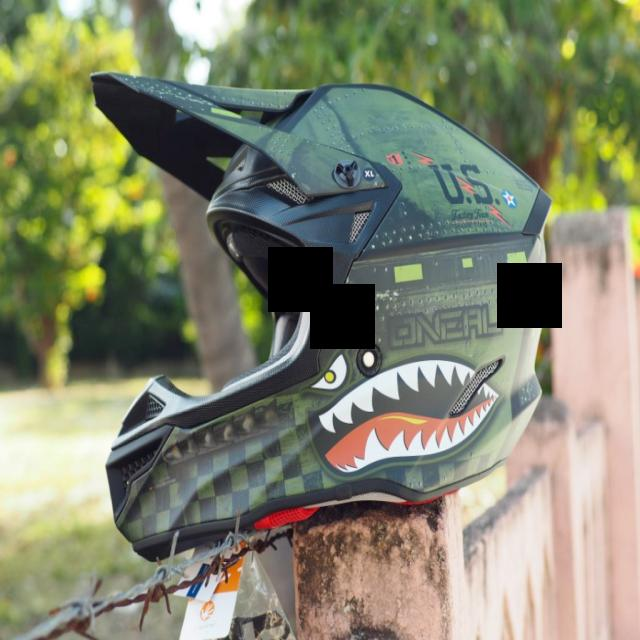Helmet: (92, 73, 550, 559)
